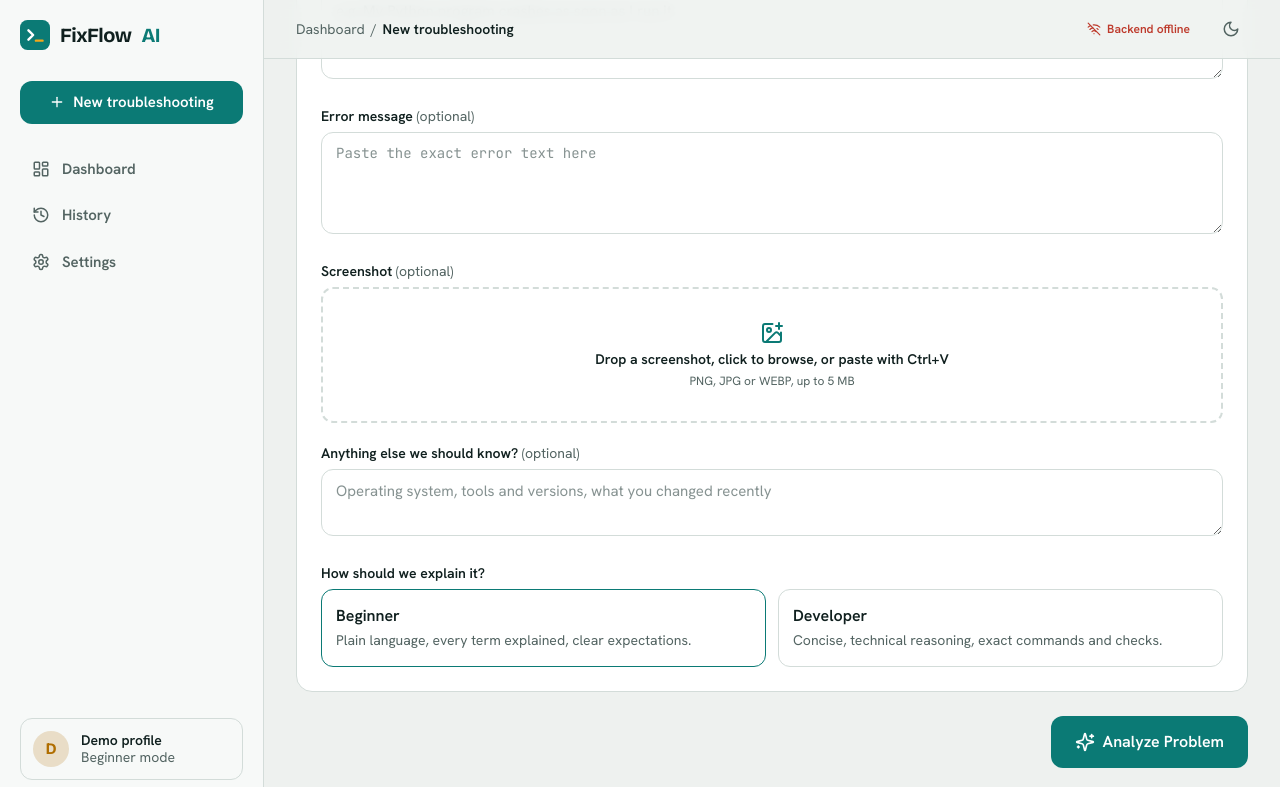
it: FixFlow AI demo flow › shows a validation error for an empty submission
The width and height of the screenshot is (1280, 787).
(page scrolled)
Click the button "Analyze Problem": (1149, 742) [1051, 716, 1248, 768]
(page scrolled)
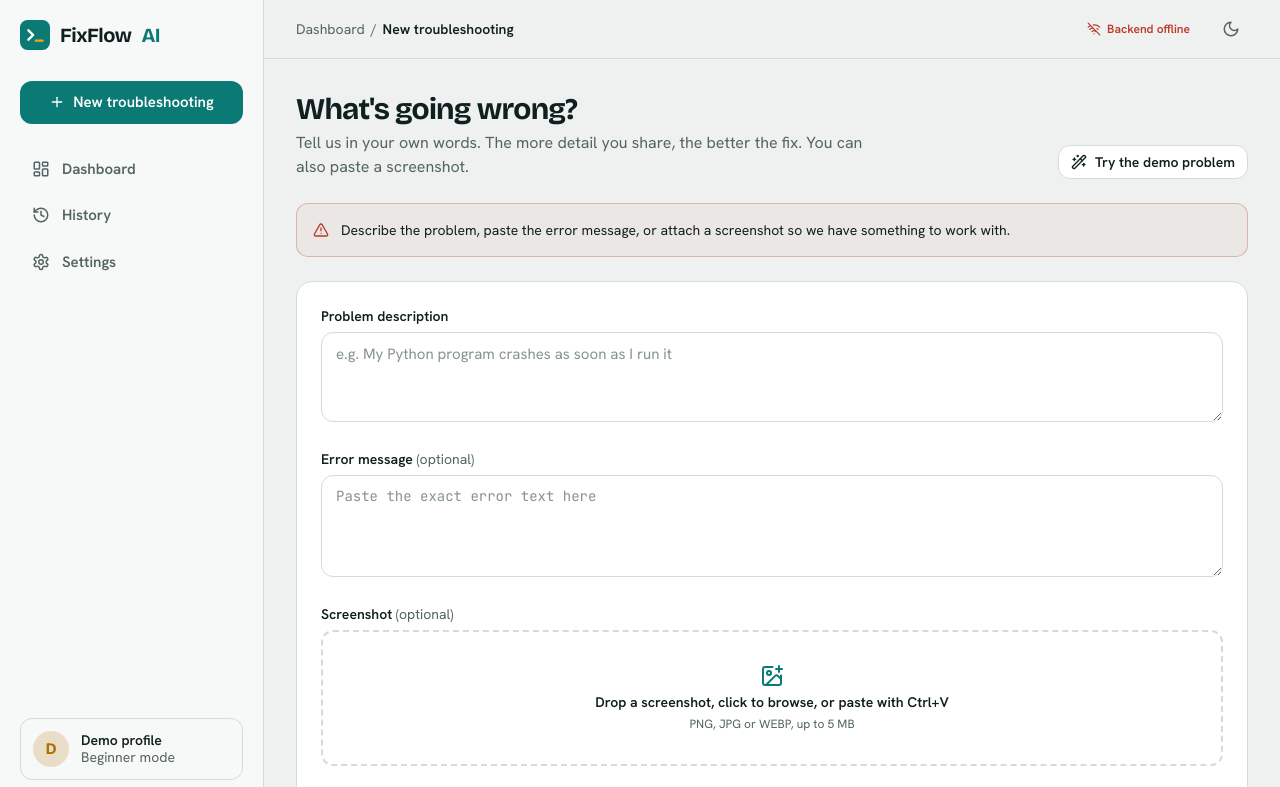
Result: the message shows "Describe the problem" at [341, 221, 1010, 239]
